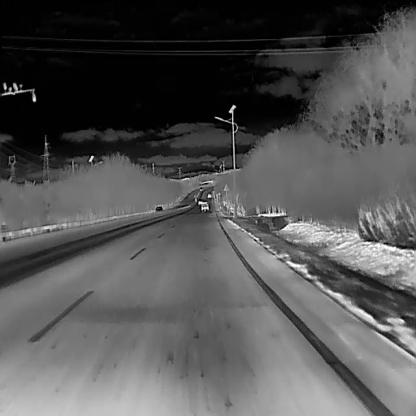car: (199, 200, 209, 210), (154, 205, 162, 213)
